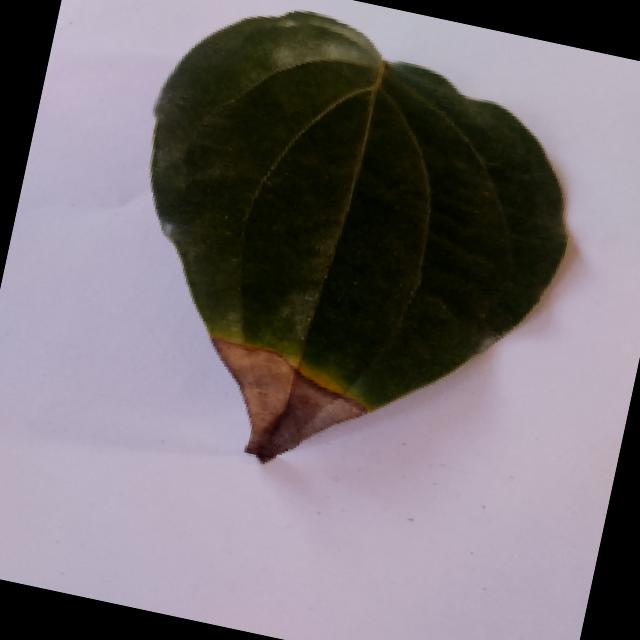footrot: (73, 0, 622, 519)
